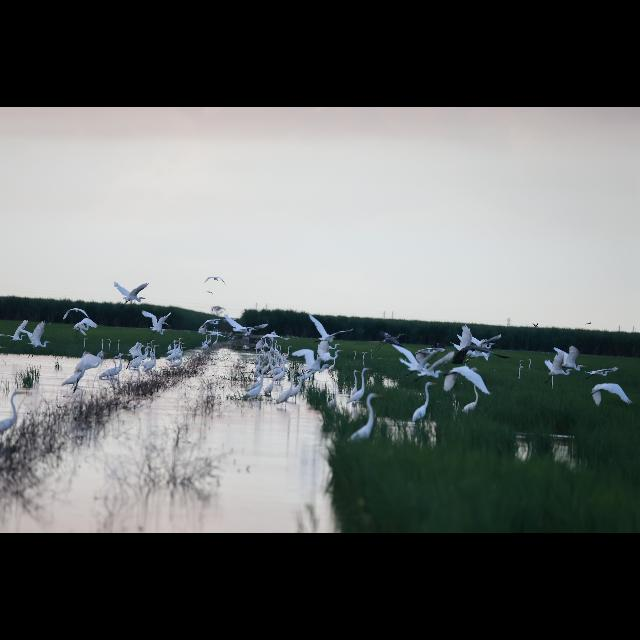egret: (352, 392, 391, 444), (410, 378, 442, 426), (306, 315, 356, 343), (112, 284, 154, 308), (139, 312, 173, 340), (23, 322, 57, 348), (558, 344, 586, 372)
heron: (375, 330, 409, 350)
